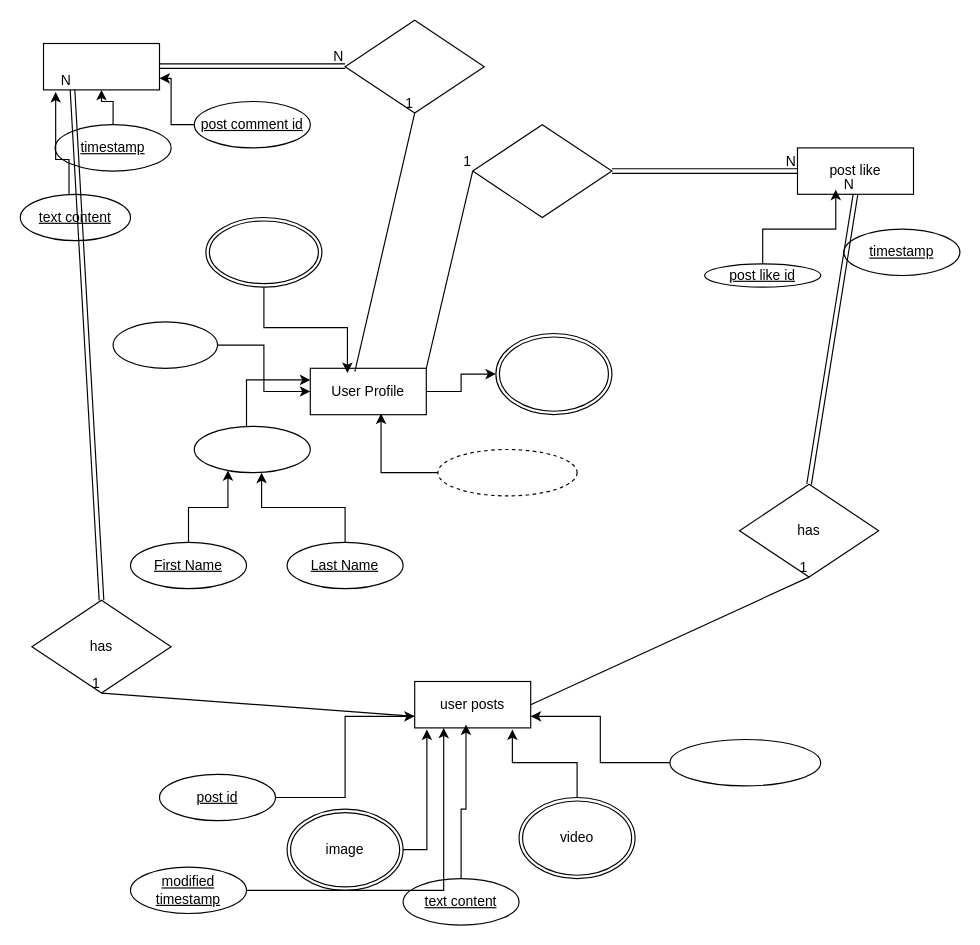
Some shapes in this 980 by 945 pixel diagram are drawn without their labels. The centre of each missing label's shape, as x and y in pixels:
"age" goes at (507,472).
"can" goes at (542,170).
"comments" goes at (414,66).
"contact" goes at (263,251).
"created timestamp" goes at (745,762).
"email" goes at (553,373).
"name" goes at (251,449).
"post comments" goes at (101,66).
"username" goes at (164,344).
